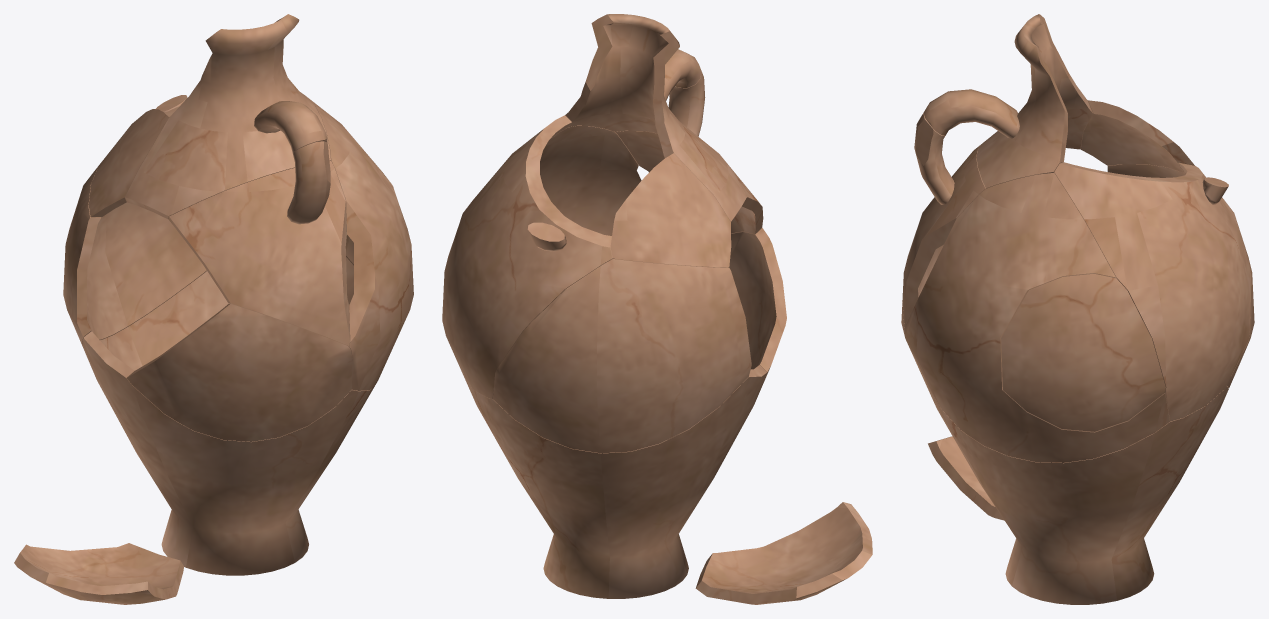
Rendered from Jarrón III Roto.fbx.
3 views of the same model, side by side, from view 1: azimuth 30°, elevation 25°; view 2: azimuth 150°, elevation 25°; view 3: azimuth 270°, elevation 25° (orthographic). The views are drawn at different scales.
Parts seen in each view (by area): view 1: Jarrón III Roto; view 2: Jarrón III Roto; view 3: Jarrón III Roto.
Boxes of the visible parts, <box> form: Jarrón III Roto: <box>14,14,413,604</box>; Jarrón III Roto: <box>442,14,872,604</box>; Jarrón III Roto: <box>901,14,1254,604</box>.
Bounding box in the file's own units: 205 × 278 × 163.
1 material, 1 textured.
